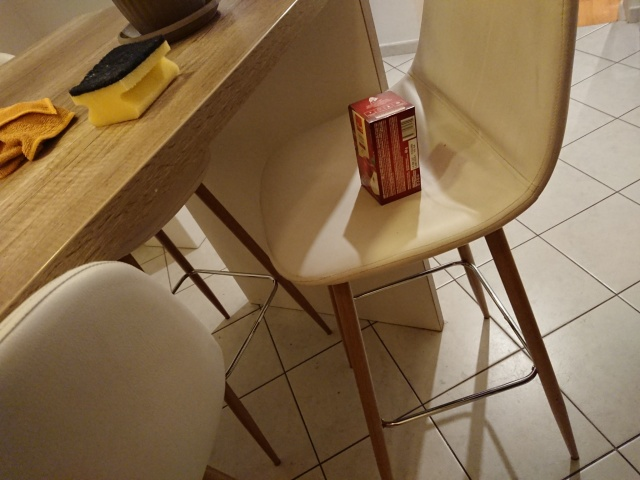Franck Apple Cinnamon Tea 60g: (344, 87, 424, 207)
